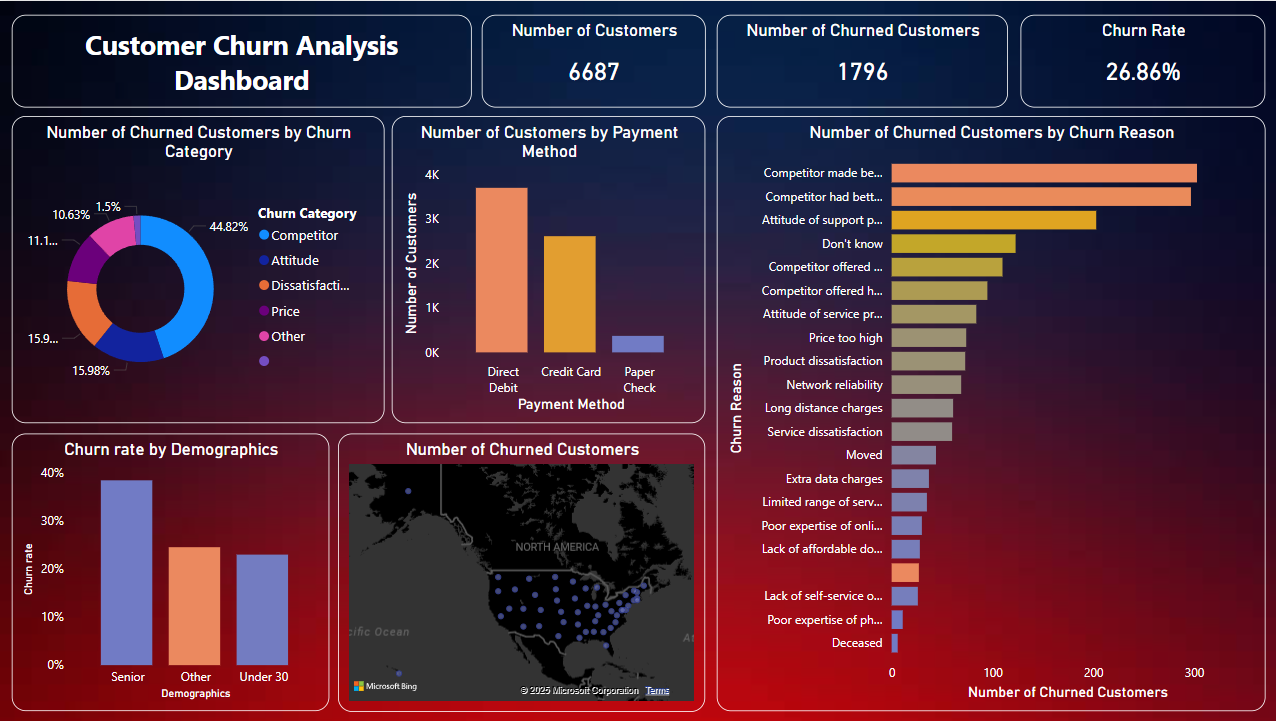

What the dashboard file says about the page in this screenshot:
{"tool":"powerbi","page":{"name":"Final Report 1","canvas":[1280,720],"ordinal":17},"visuals":[{"type":"card","title":"Number of Customers","fields":{"Values":["Databel - Data.Number of Unique Customers"]},"box":[483.8,13.8,223.8,92.5],"z":0},{"type":"card","title":"Number of Churned Customers","fields":{"Values":["Databel - Data.Number of Churned Customers"]},"box":[718.8,13.8,291.2,92.5],"z":1000},{"type":"card","title":"Churn Rate","fields":{"Values":["Databel - Data.Churn rate"]},"box":[1022.5,13.8,245,92.5],"z":2000},{"type":"clusteredBarChart","fields":{"Category":["Databel - Data.Churn Reason"],"Y":["Databel - Data.Number of Churned Customers"]},"box":[718.8,115,548.8,595],"z":3000},{"type":"clusteredColumnChart","fields":{"Y":["Databel - Data.Number of Customers"],"Category":["Databel - Data.Payment Method"]},"box":[393.8,115,313.8,307.5],"z":4000},{"type":"columnChart","fields":{"Category":["Databel - Data.Demographics"],"Y":["Databel - Data.Churn rate"]},"box":[13.8,432.5,317.5,277.5],"z":5000},{"type":"donutChart","title":"Number of Churned Customers by Churn Category","fields":{"Category":["Databel - Data.Churn Category"],"Y":["Divide(Databel - Data.Number of Churned Customers, ScopedEval(Databel - Data.Number of Churned Customers, []))"]},"box":[13.8,115,372.5,307.5],"z":6000},{"type":"map","title":"Number of Churned Customers","fields":{"Category":["Databel - Data.State"]},"box":[340,432.5,367.5,278.8],"z":7000},{"type":"textbox","box":[13.8,13.8,460,92.5],"z":7001}]}

Visuals, with their boxes in screenshot pixels (x1, y1, x2, y2), scaled from the page's 1280x720 canvas onto the 1276x721 screenshot:
"Number of Customers" card: [482, 14, 705, 106]
"Number of Churned Customers" card: [717, 14, 1007, 106]
"Churn Rate" card: [1019, 14, 1264, 106]
clusteredBarChart - Databel - Data.Churn Reason x Databel - Data.Number of Churned Customers: [717, 115, 1264, 711]
clusteredColumnChart - Databel - Data.Number of Customers x Databel - Data.Payment Method: [393, 115, 705, 423]
columnChart - Databel - Data.Demographics x Databel - Data.Churn rate: [14, 433, 330, 711]
"Number of Churned Customers by Churn Category" donutChart: [14, 115, 385, 423]
"Number of Churned Customers" map: [339, 433, 705, 712]
textbox: [14, 14, 472, 106]
